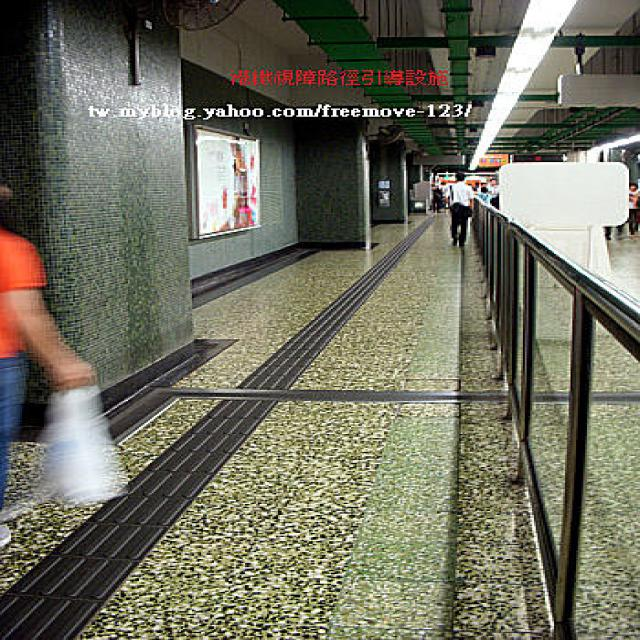tactile-guide-path: (0, 397, 282, 639), (238, 214, 439, 393)
